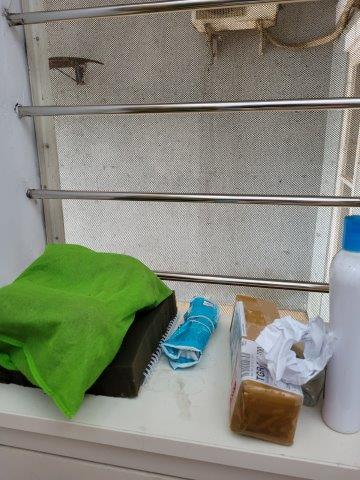kertas: (256, 314, 336, 388)
